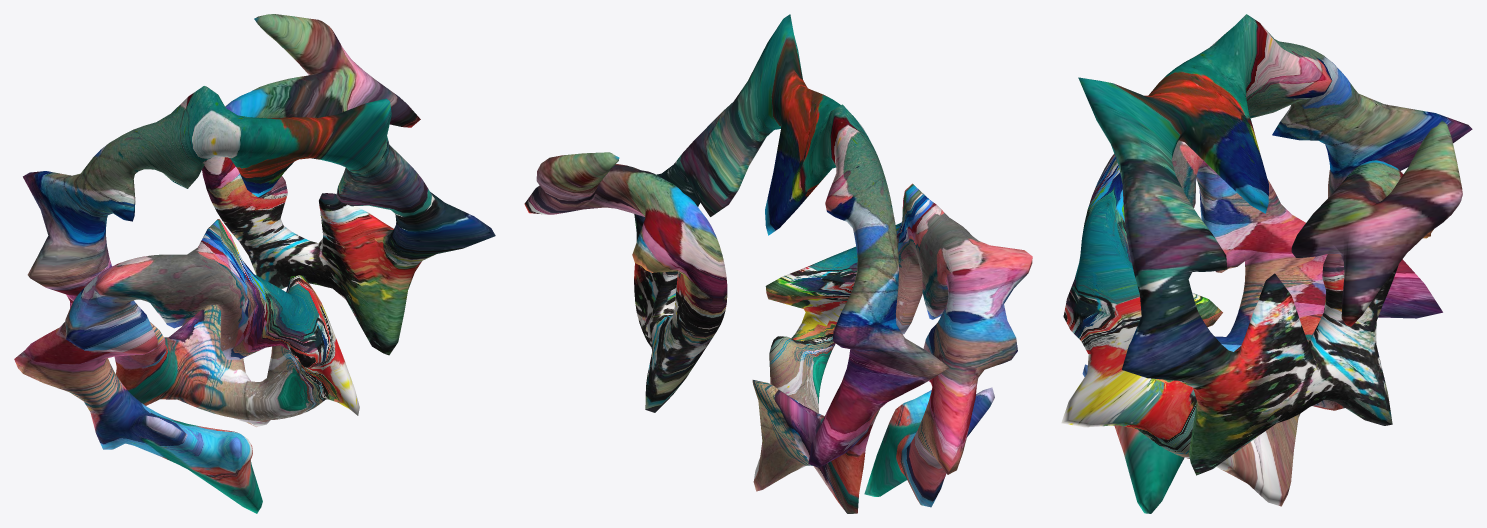
File: spiral01_texture.glb
The picture shows the model from 3 angles, left to right: view 1: azimuth 30°, elevation 25°; view 2: azimuth 150°, elevation 25°; view 3: azimuth 270°, elevation 25°; orthographic projection. The views are drawn at different scales.
Visible parts, largest first — view 1: splendour_2.005; view 2: splendour_2.005; view 3: splendour_2.005.
Part boxes in pixels (x1,y1,x2,y2): splendour_2.005: [14, 14, 495, 513]; splendour_2.005: [524, 14, 1032, 513]; splendour_2.005: [1061, 14, 1472, 513].
Size of the model in its own units: 1.07 by 1.02 by 0.7622.
Materials: 1 (1 with a texture image).
